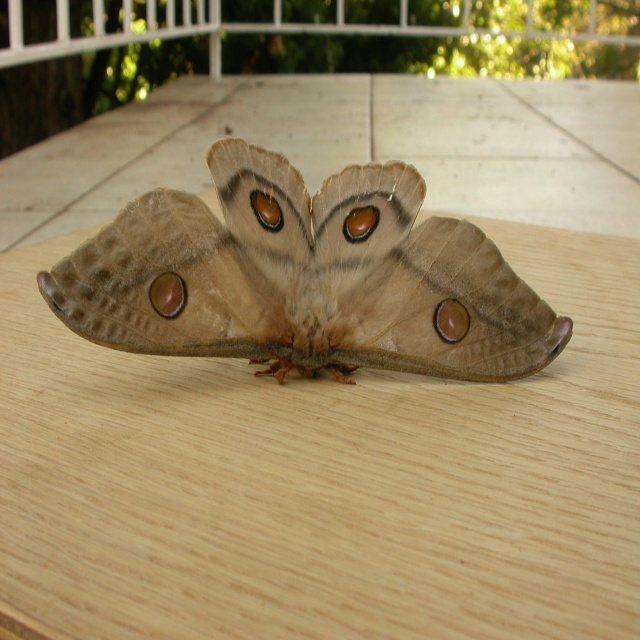Butterfly: (143, 134, 580, 398)
